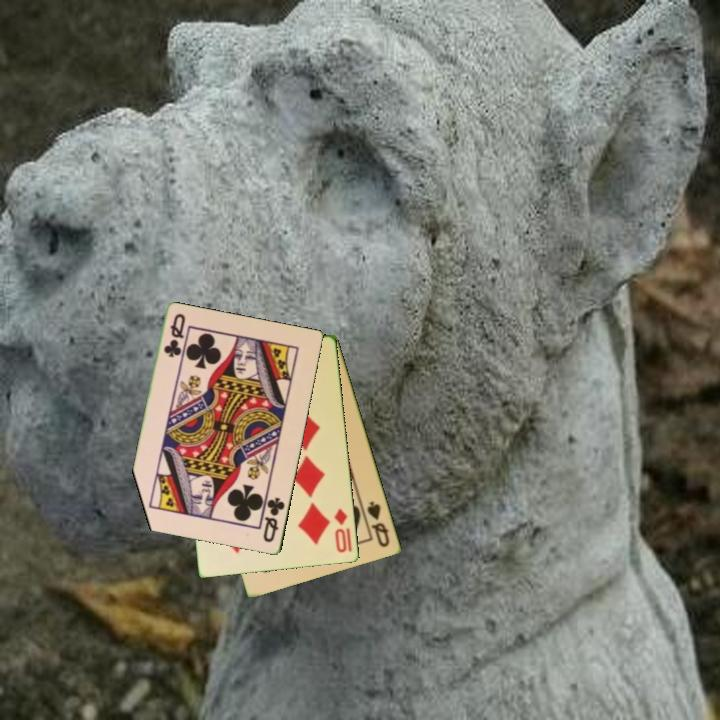10d: (331, 505, 355, 556)
Qc: (160, 310, 189, 361), (260, 494, 288, 546)
Qs: (364, 498, 393, 550)
